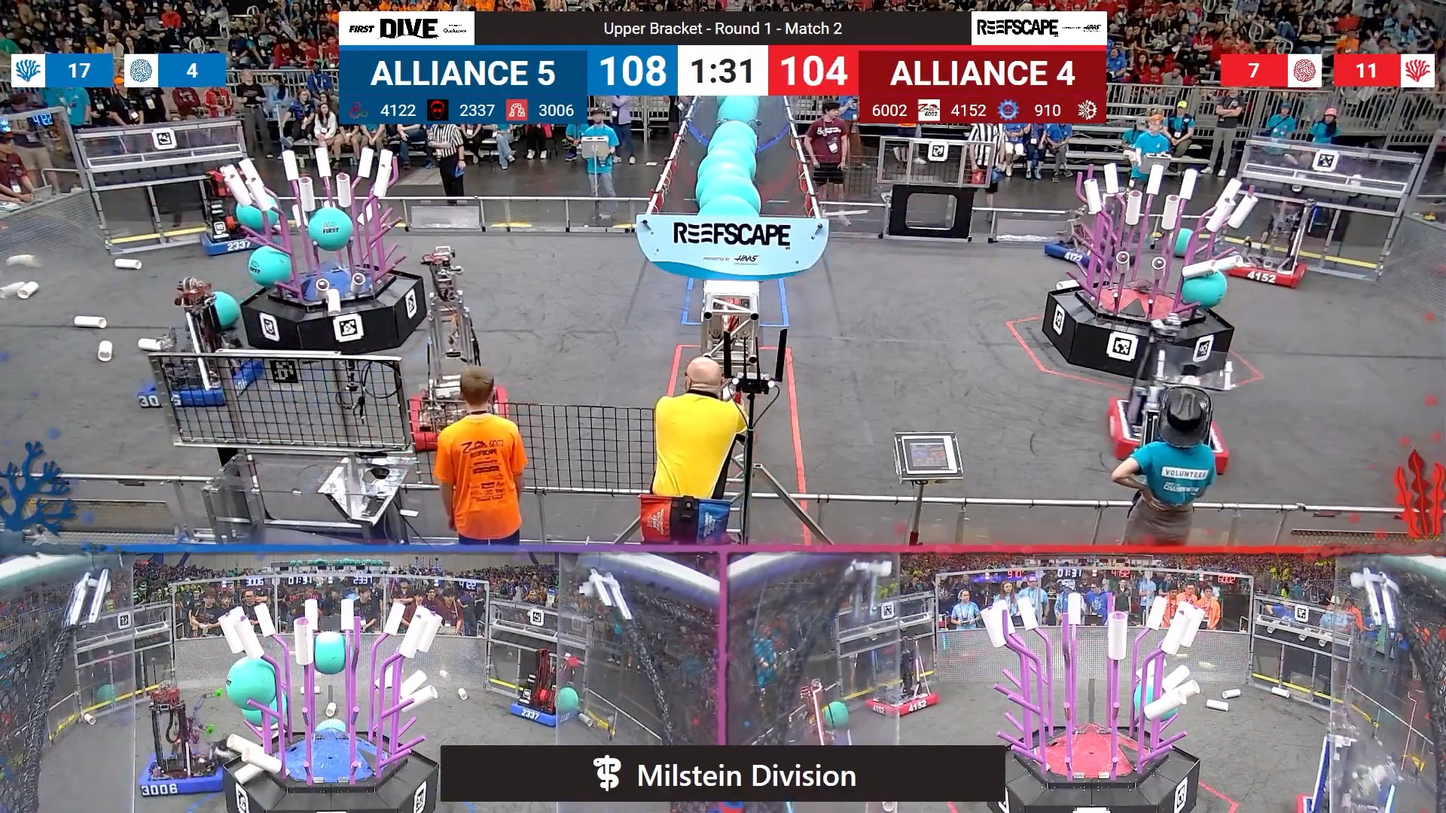bumpers: (1101, 397, 1233, 480), (133, 354, 263, 410), (130, 744, 236, 802), (406, 377, 515, 431), (1217, 251, 1315, 291), (197, 221, 285, 259), (1039, 238, 1132, 269), (503, 695, 582, 730), (862, 687, 944, 720)
